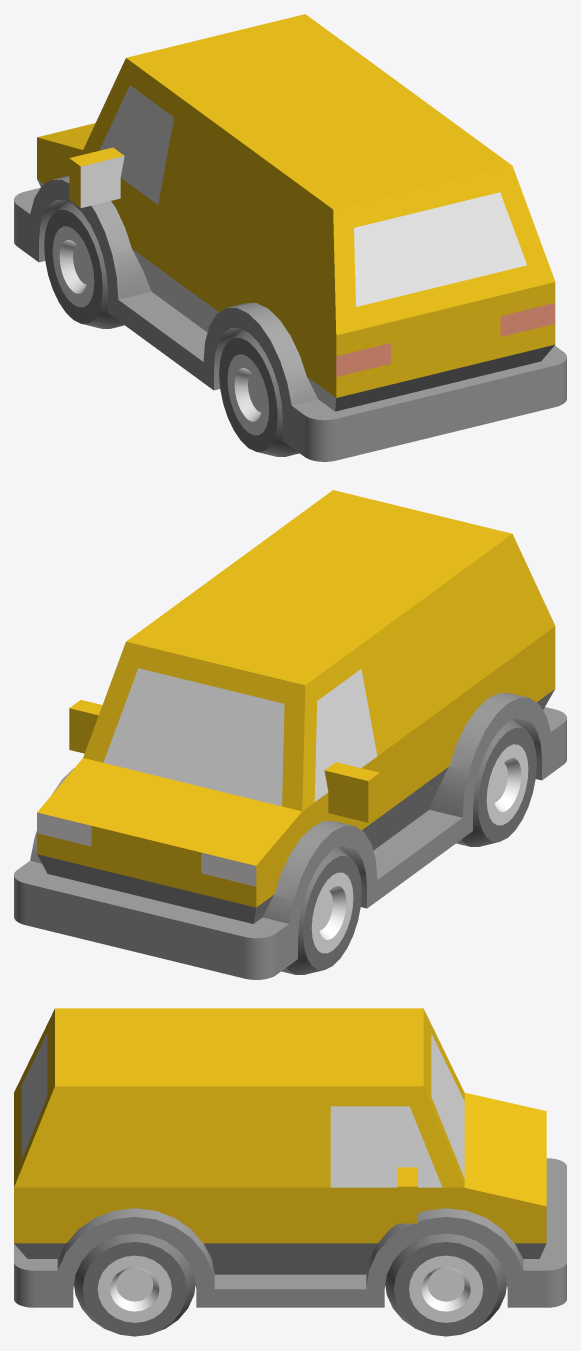
File: van.glb
3 renders of one model, top to bottom at view 1: azimuth 30°, elevation 25°; view 2: azimuth 150°, elevation 25°; view 3: azimuth 270°, elevation 25°, orthographic. The views are drawn at different scales.
Parts seen in each view (by area): view 1: body, wheel_backLeft, wheel_frontLeft; view 2: body, wheel_frontLeft, wheel_backLeft; view 3: body, wheel_backRight, wheel_frontRight.
Part boxes in pixels (left/top/right/bottom): body: left=14, top=14, right=566, bottom=461; wheel_backLeft: left=219, top=329, right=299, bottom=456; wheel_frontLeft: left=44, top=201, right=124, bottom=328; body: left=14, top=490, right=566, bottom=979; wheel_frontLeft: left=281, top=847, right=361, bottom=974; wheel_backLeft: left=456, top=719, right=536, bottom=846; body: left=14, top=1008, right=566, bottom=1307; wheel_backRight: left=74, top=1233, right=195, bottom=1336; wheel_frontRight: left=385, top=1233, right=506, bottom=1336.
Bounding box in the file's own units: 1.5 × 1.3 × 2.7.
